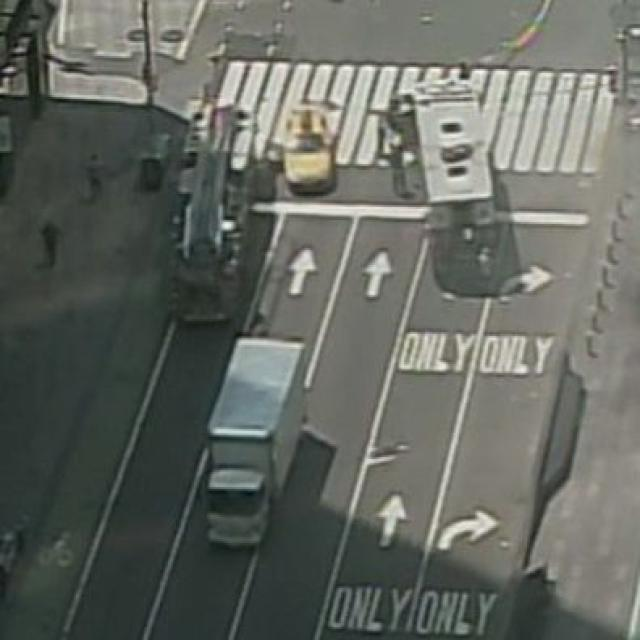traffic_incident: (259, 84, 370, 196)
